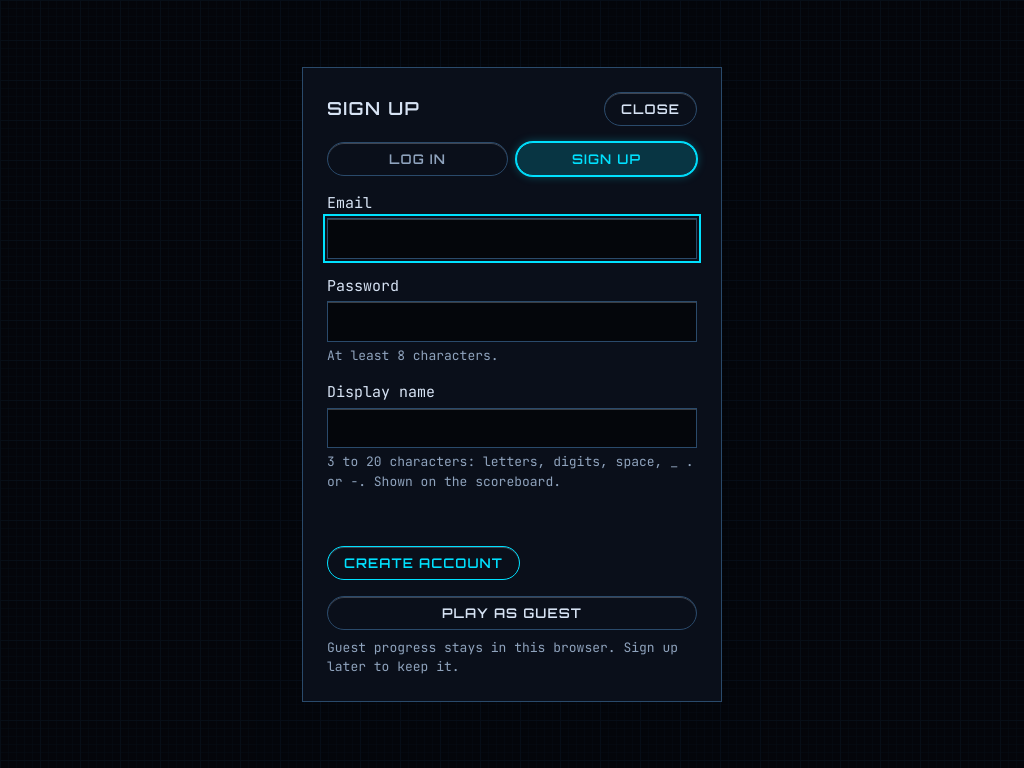
Test case: AuthDialog › sign-up without a session switches to Log in and keeps the notice
Type "a@b.co" into the field labelled "Email" at [512, 238], box [327,218,697,258]
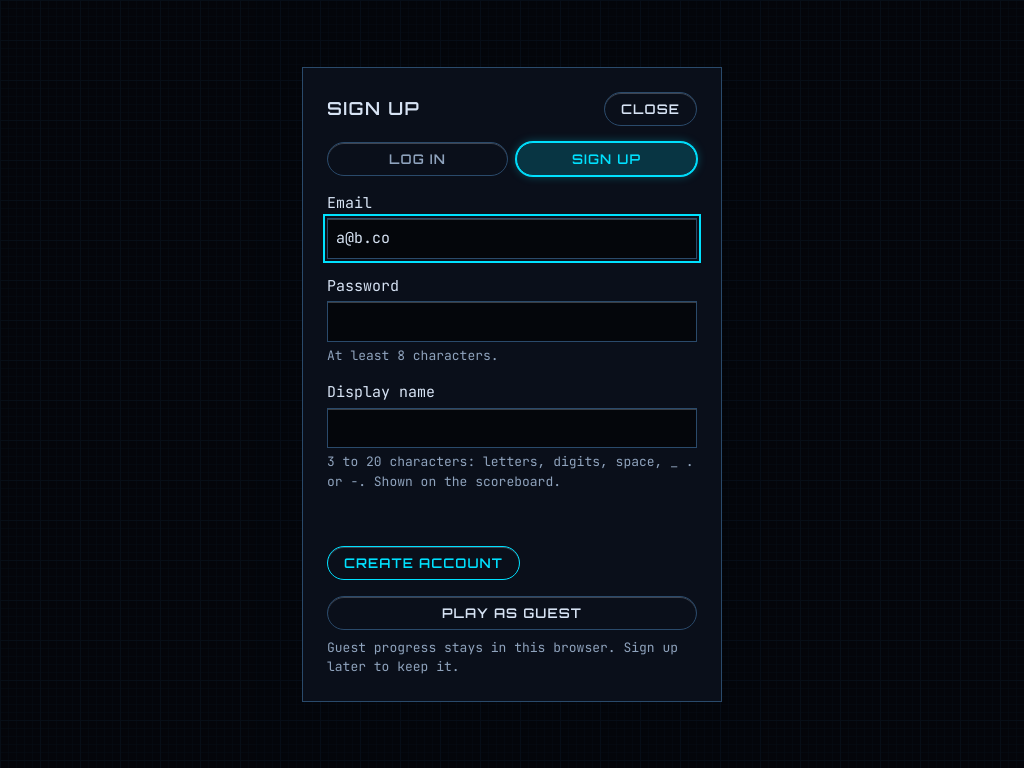
Type "longenough1" into the password field labelled "Password" at [512, 321], box [327,301,697,342]
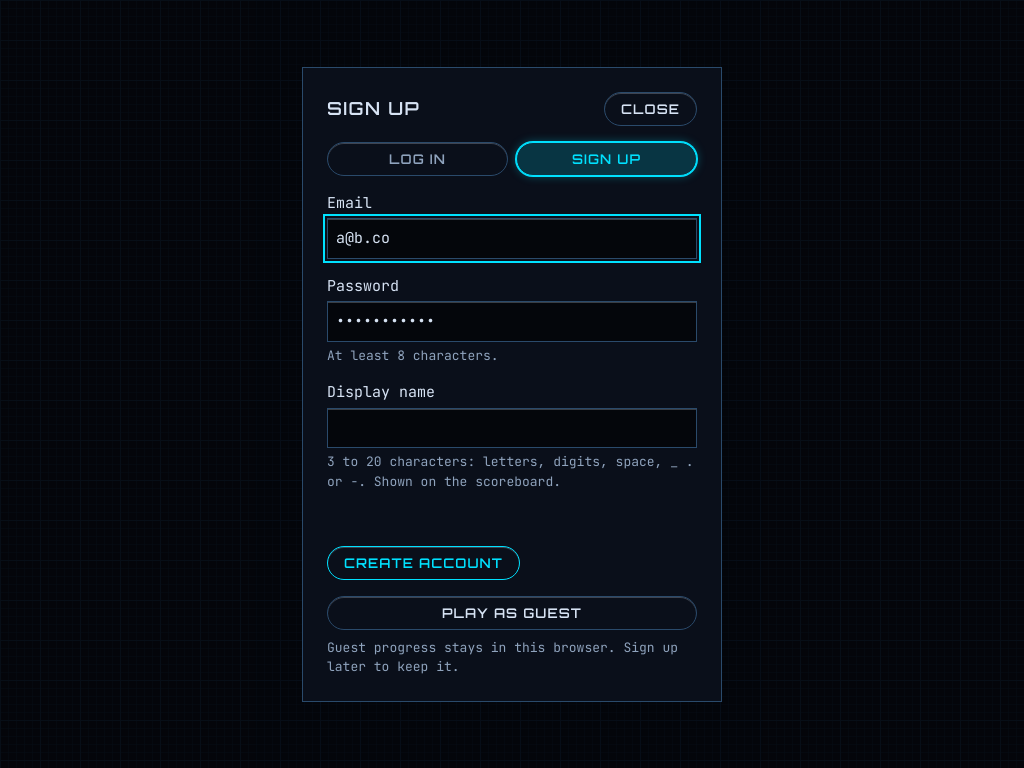
Type "Vega" into the field labelled "Display name" at [512, 428], box [327,408,697,448]
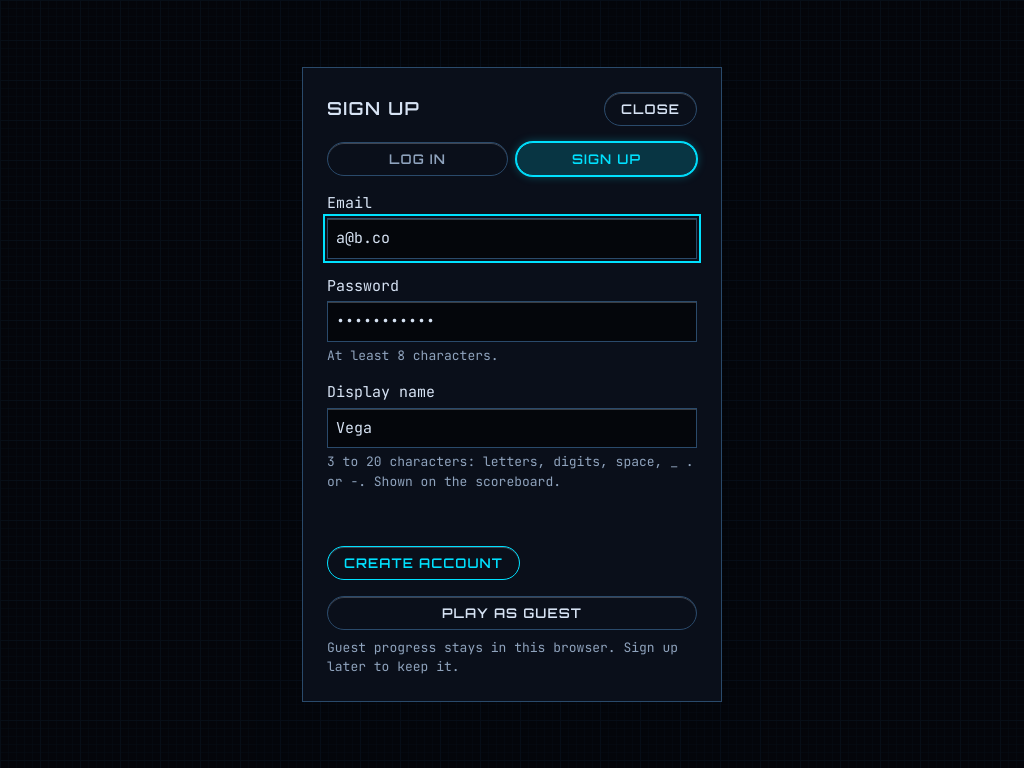
Click the button "Create account" at [423, 562], box [327,546,520,580]
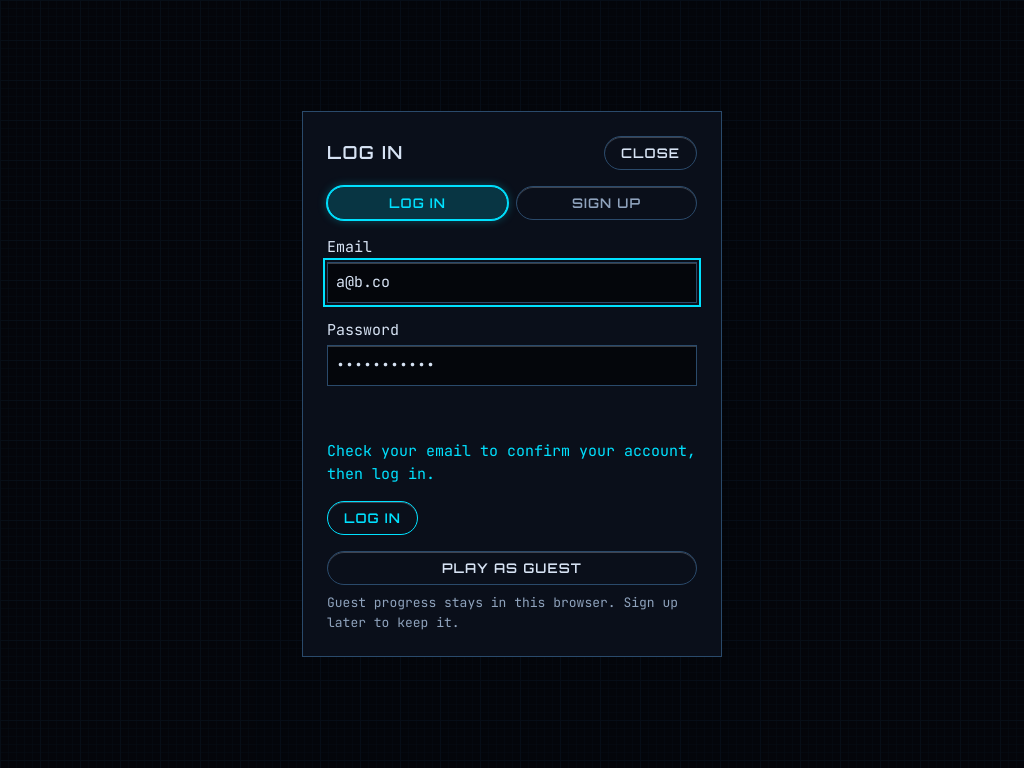
Now the heading "Log in" is shown, box [327,139,404,166]
Now the message "Check your email to confirm your account, then log in." is shown, box [327,440,697,485]
